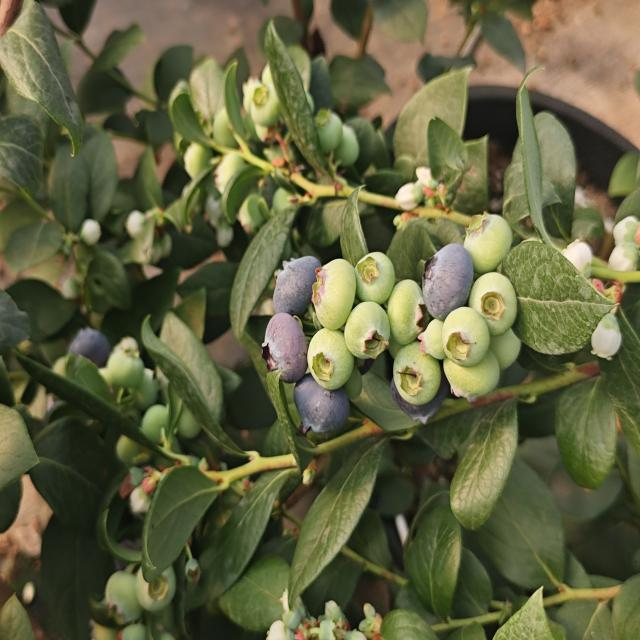ripe: (260, 252, 332, 326), (292, 370, 355, 445), (418, 244, 475, 319), (388, 365, 450, 430), (260, 309, 310, 383), (66, 320, 115, 375)
